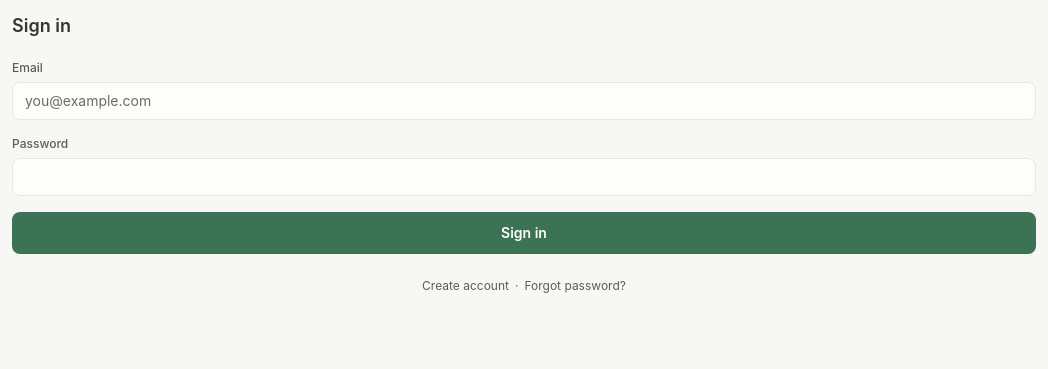
Test: LoginPage error mapping › shows the rate-limit countdown card on a 429
Type "alex@example.com" into the field labelled "Email". click: x=524, y=101
box: x1=12 y1=82 x2=1036 y2=120
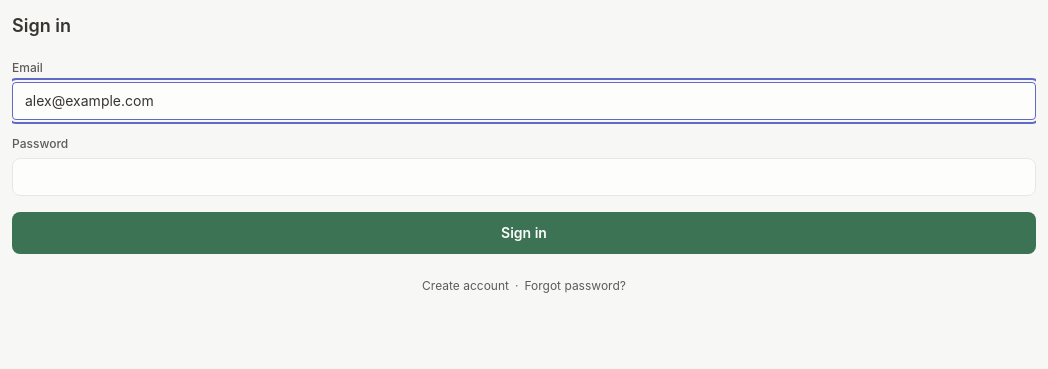
Type "hunter2boogaloo" into the password field labelled "Password". click: x=524, y=177
box: x1=12 y1=158 x2=1036 y2=196
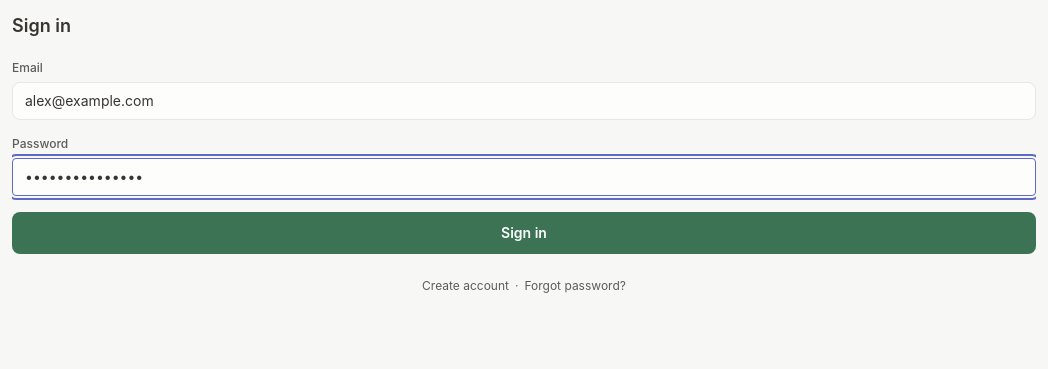
Click the button "Sign in". click: x=524, y=233
box: x1=12 y1=212 x2=1036 y2=254
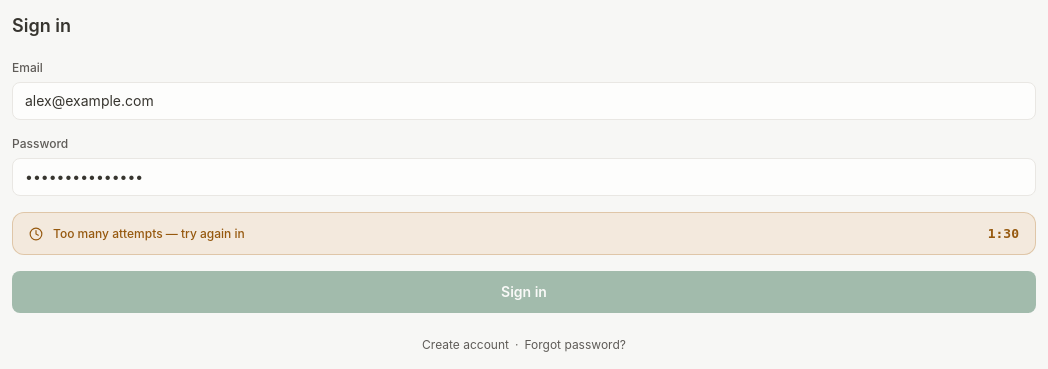
Check: the message shows "Too many attempts", box x1=53 y1=226 x2=245 y2=241
Check: the message shows "1:30", box x1=988 y1=226 x2=1019 y2=241
Check: the button "Sign in" is disabled, box x1=12 y1=271 x2=1036 y2=313
